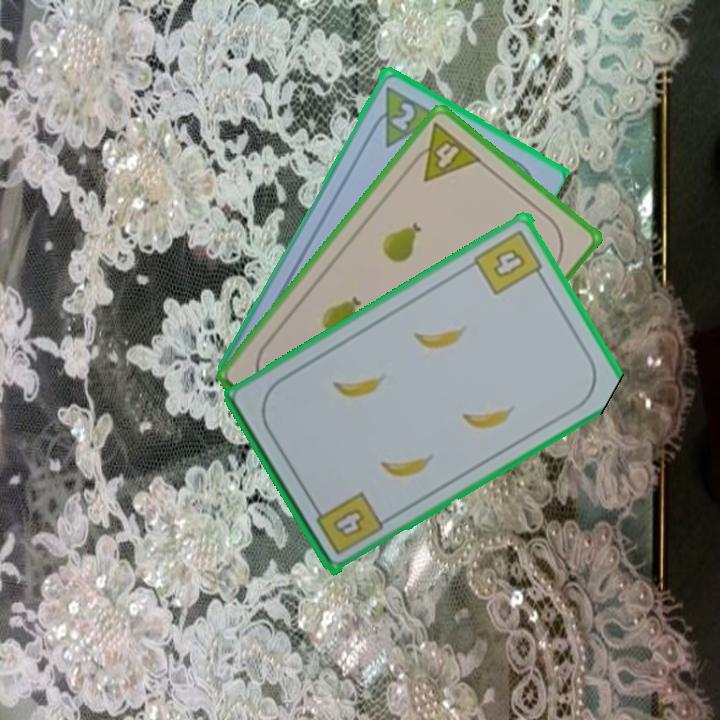2p: (364, 81, 440, 150)
4b: (470, 225, 549, 297), (308, 487, 387, 558)
4p: (404, 118, 485, 185)
